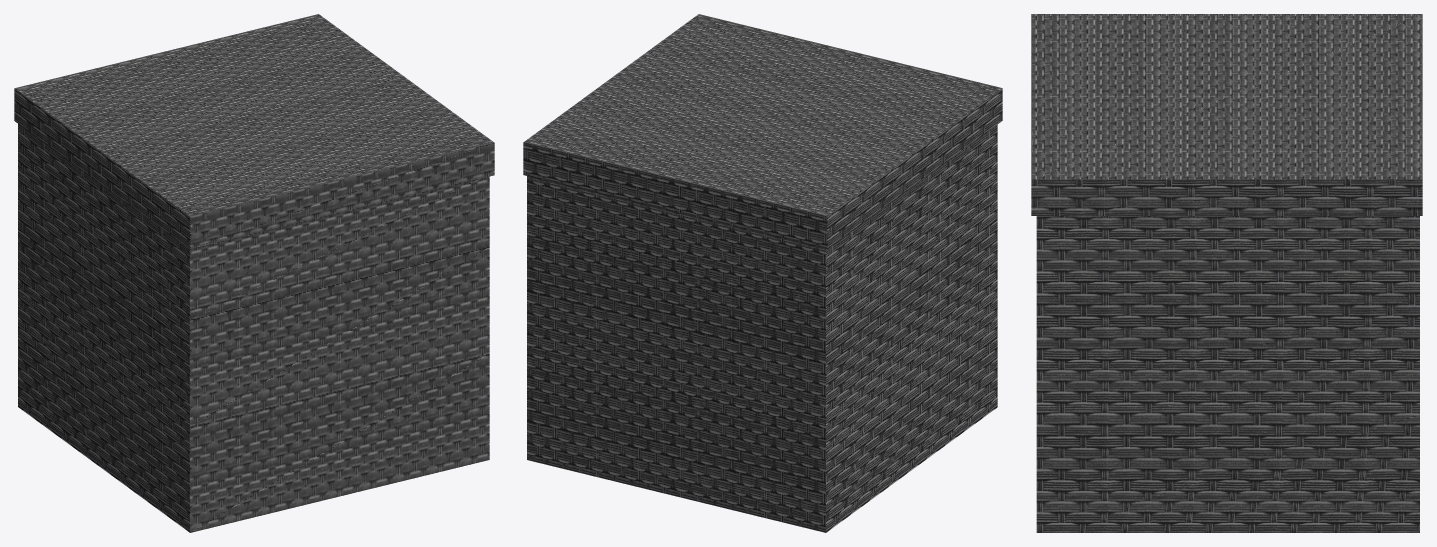
Rendered from sh-scopia-rattan-table.glb.
3 renders of one model, left to right at view 1: azimuth 30°, elevation 25°; view 2: azimuth 150°, elevation 25°; view 3: azimuth 270°, elevation 25°, orthographic. The views are drawn at different scales.
Parts seen in each view (by area): view 1: table_Cube.001; view 2: table_Cube.001; view 3: table_Cube.001.
Boxes of the visible parts, x1=… form: table_Cube.001: x1=14, y1=14, x2=494, y2=532; table_Cube.001: x1=523, y1=14, x2=1002, y2=532; table_Cube.001: x1=1031, y1=14, x2=1422, y2=532.
Size of the model in its own units: 1 by 1 by 1.
Materials: 1 (1 with a texture image).
